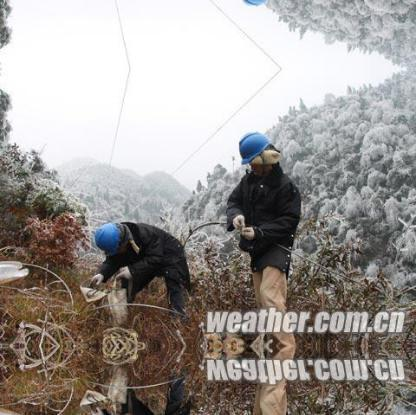helmet: (232, 124, 275, 165), (84, 218, 120, 260)
